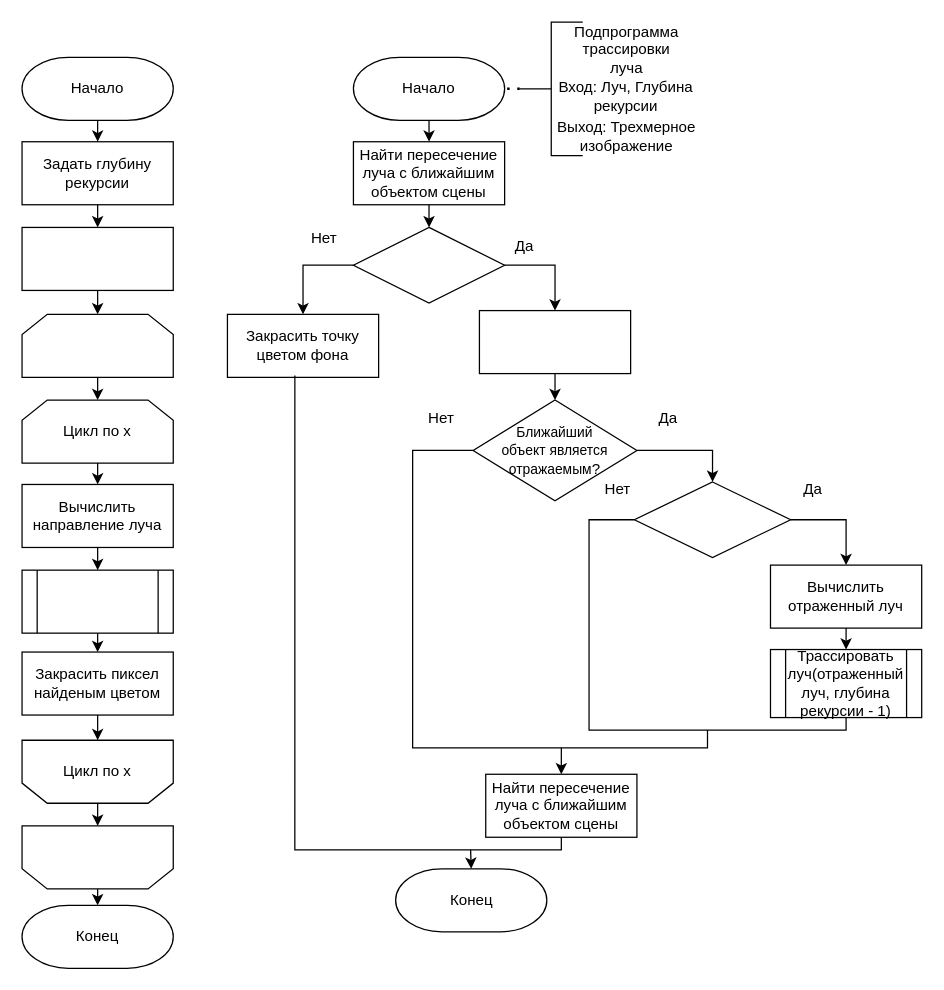
Some shapes in this 944 by 990 pixel diagram are drawn without their labels. The centre of each missing label's shape, as x and y in pixels:
"Вычислить интенсивность цвета в точке пересечения" belongs at (x=554, y=341).
"Глубина рекурсии== 0" belongs at (x=712, y=519).
"Задать положение камеры" belongs at (x=97, y=258).
"Пересечение найдено?" belongs at (x=428, y=264).
"Трассировать луч" belongs at (x=97, y=601).
"Цикл по y" belongs at (x=97, y=857).
"Цикл по у" belongs at (x=97, y=345).
